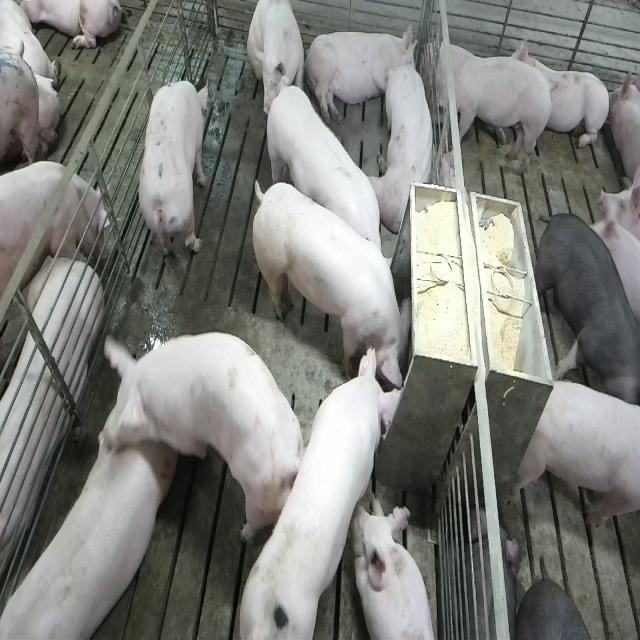Feeding: (241, 342, 414, 635), (255, 173, 419, 400)
Lateral_lying: (0, 241, 103, 594), (304, 21, 418, 126)
Sitting: (247, 1, 307, 121)
Standing: (93, 331, 301, 546), (0, 439, 164, 640), (260, 76, 392, 284), (511, 375, 639, 539), (535, 215, 638, 410), (424, 51, 555, 181), (138, 73, 216, 272), (0, 162, 110, 300)
Sternal_lying: (506, 29, 609, 153), (358, 496, 438, 640), (376, 55, 438, 234)
